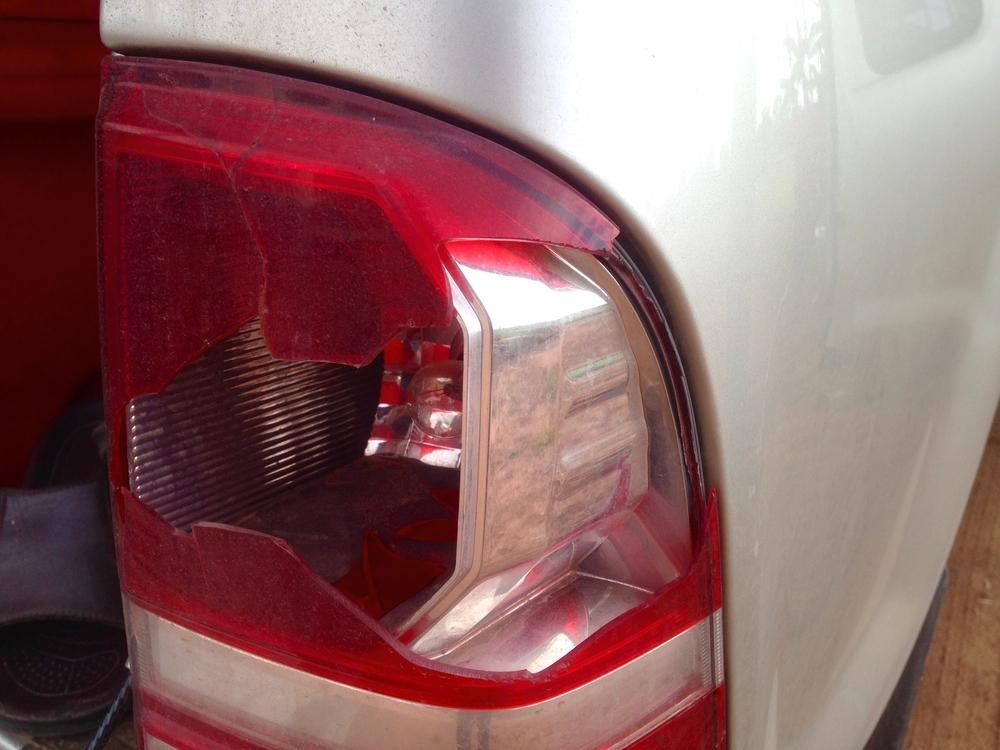lamp broken: (96, 51, 731, 750)
